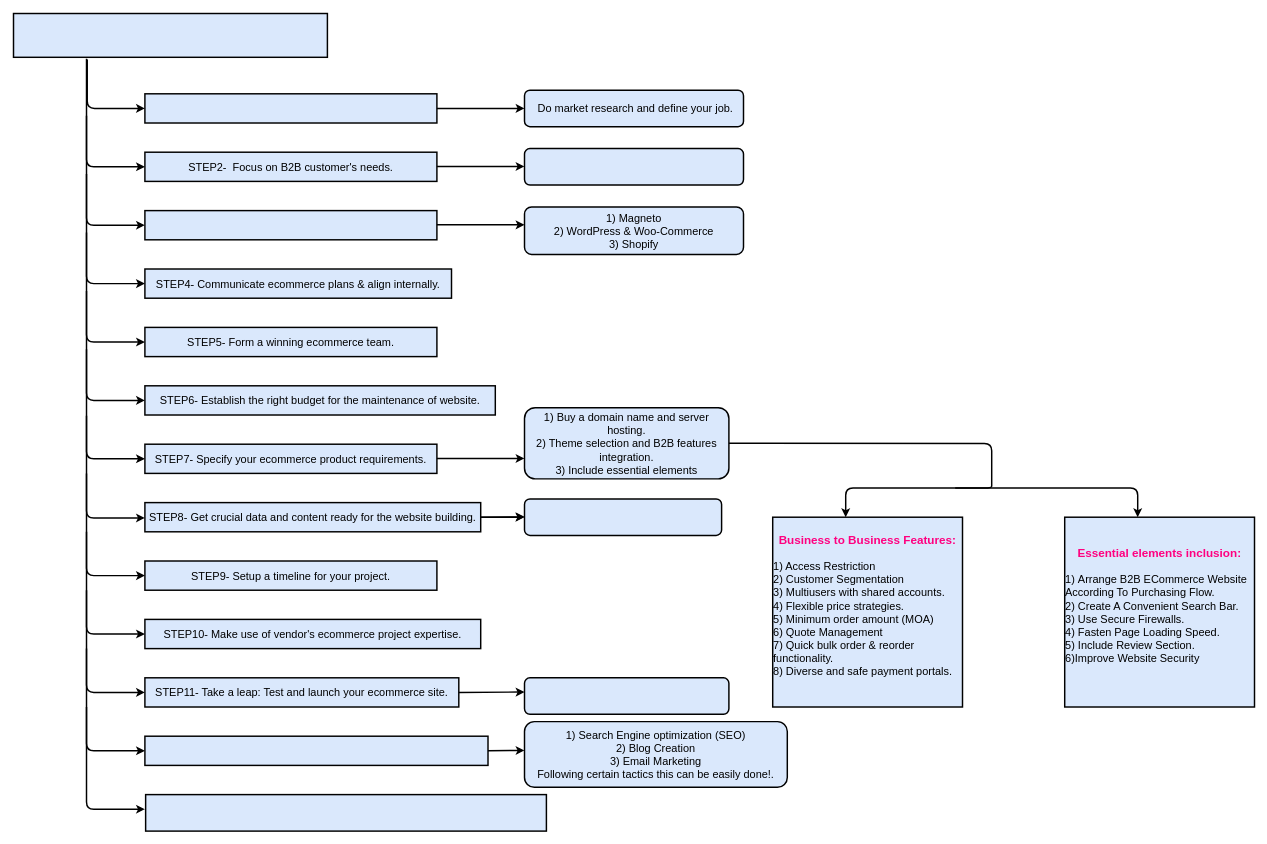
The diagram is 1267 pixels wide and 844 high, and some of its shapes have lost their labels. The centre of each missing label's shape, as x and y in pixels:
Like: Resource management, competitor scanning.: [622,517]
STEP1- Define E-commerce Goals.: [290,108]
STEP12- Leverage digital Marketing to inform about the live site.: [316,750]
STEP13- Evaluate, Maintain & Upgrade the ecommerce website performance.: [346,812]
STEP3- Pick a suitable platform for website development.: [290,225]
STEPS TO START B2B ECOMMERCE WEBSITE: [170,35]
Take a look at trending products.: [633,166]
Test B2B site before going live.: [626,696]
